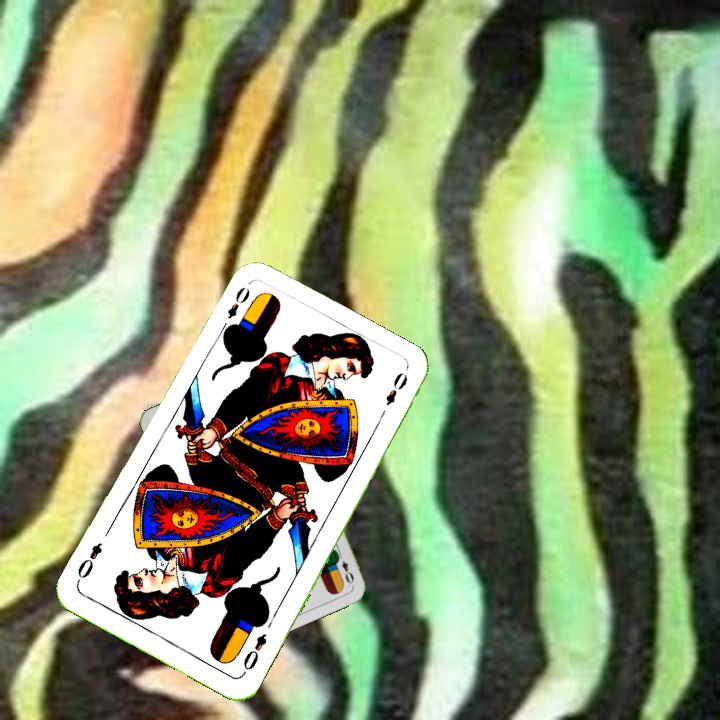EO: (216, 282, 253, 335), (238, 629, 270, 678), (333, 548, 357, 586)
